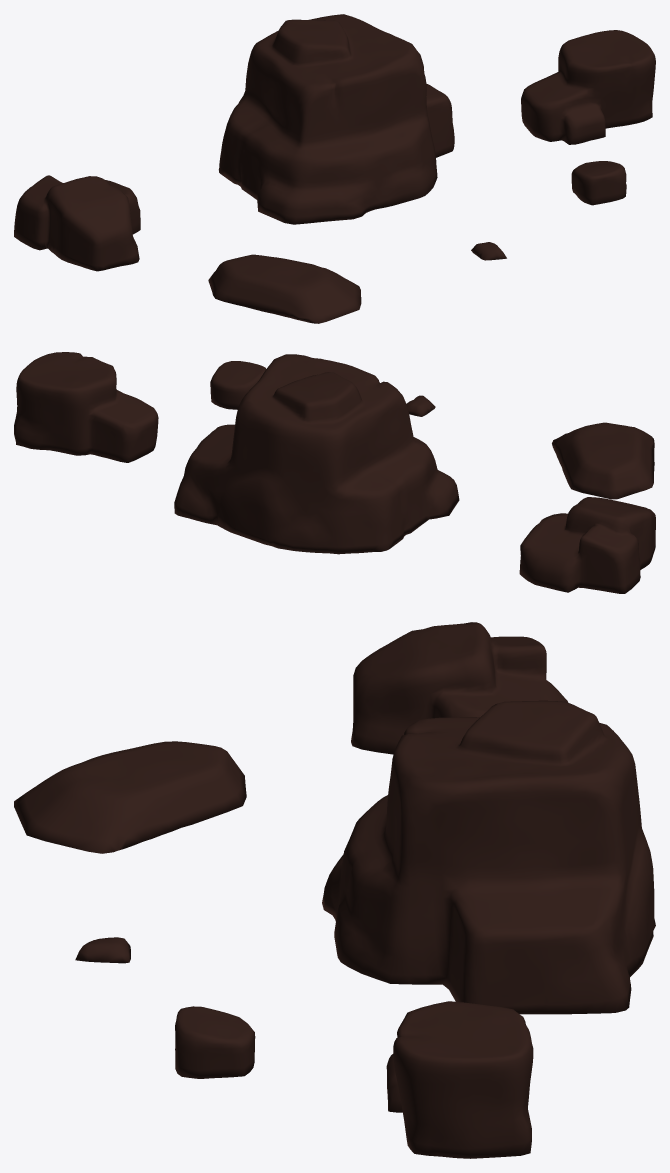
Rendered from Rocks OBJ (UV Mapped).obj.
3 renders of one model, top to bottom at view 1: azimuth 30°, elevation 25°; view 2: azimuth 150°, elevation 25°; view 3: azimuth 270°, elevation 25°, orthographic. The views are drawn at different scales.
Parts seen in each view (by area): view 1: polySurface6, polySurface4, polySurface5, polySurface1, polySurface7, polySurface8; view 2: polySurface6, polySurface4, polySurface5, polySurface1, polySurface7, polySurface8; view 3: polySurface6, polySurface4, polySurface1, polySurface5, polySurface7, polySurface8.
Part boxes in pixels (x1=…): polySurface6: x1=218, y1=14, x2=454, y2=224; polySurface4: x1=521, y1=30, x2=655, y2=144; polySurface5: x1=14, y1=175, x2=140, y2=271; polySurface1: x1=208, y1=254, x2=361, y2=323; polySurface7: x1=571, y1=161, x2=626, y2=205; polySurface8: x1=471, y1=242, x2=506, y2=260; polySurface6: x1=174, y1=354, x2=459, y2=554; polySurface4: x1=14, y1=352, x2=158, y2=462; polySurface5: x1=519, y1=497, x2=655, y2=593; polySurface1: x1=552, y1=422, x2=654, y2=499; polySurface7: x1=210, y1=361, x2=266, y2=409; polySurface8: x1=406, y1=395, x2=435, y2=416; polySurface6: x1=322, y1=700, x2=655, y2=1014; polySurface4: x1=386, y1=1001, x2=533, y2=1158; polySurface1: x1=14, y1=741, x2=246, y2=853; polySurface5: x1=351, y1=622, x2=567, y2=754; polySurface7: x1=175, y1=1006, x2=255, y2=1078; polySurface8: x1=75, y1=937, x2=130, y2=963.
Size of the model in its own units: 16.35 by 3.37 by 9.53.
